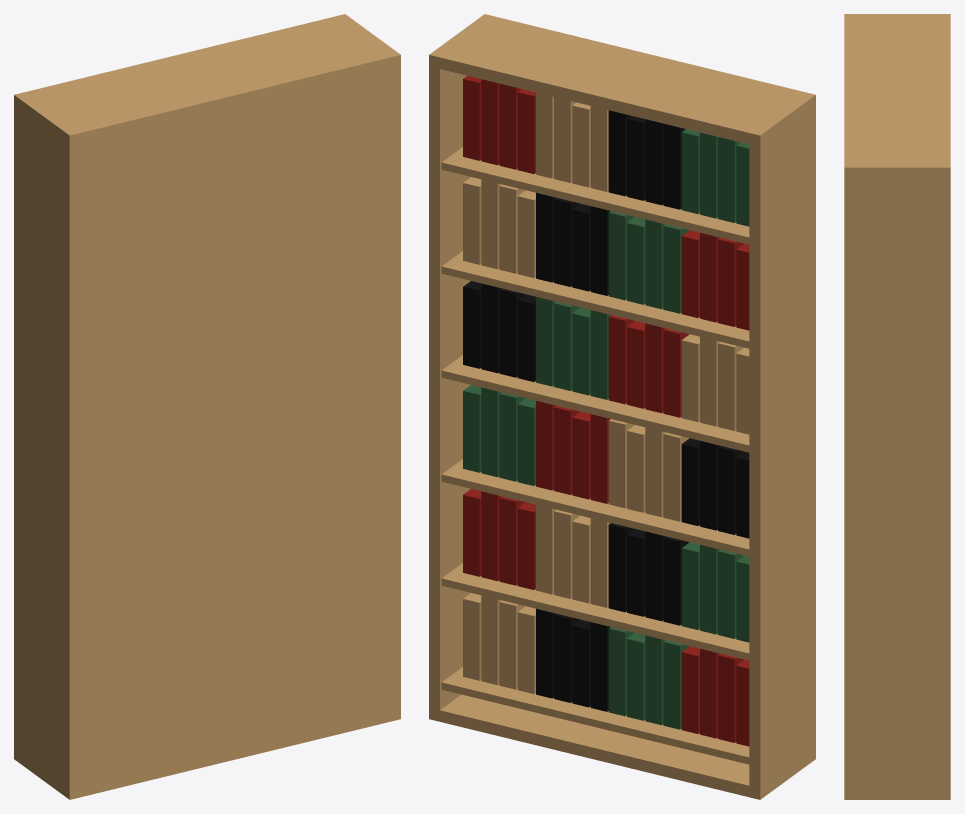
Rendered from justice.court.law_bookcase.glb.
The picture shows the model from 3 angles, left to right: view 1: azimuth 30°, elevation 25°; view 2: azimuth 150°, elevation 25°; view 3: azimuth 270°, elevation 25°; orthographic projection. The views are drawn at different scales.
Visible parts, largest first — view 1: main__glulam; view 2: main__glulam, main__leather_black, main__fabric_green, main__fabric_red; view 3: main__glulam.
Part boxes in pixels (<box>): main__glulam: <box>14,14,400,799</box>; main__glulam: <box>429,14,815,799</box>; main__leather_black: <box>463,110,749,711</box>; main__fabric_green: <box>463,129,749,729</box>; main__fabric_red: <box>463,76,749,746</box>; main__glulam: <box>844,14,950,799</box>.
Bounding box in the file's own units: 1.2 × 2.3 × 0.35.
